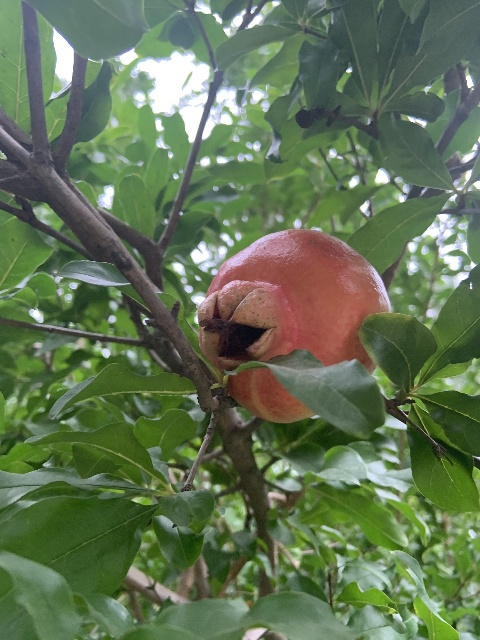ripe: (197, 228, 393, 419)
